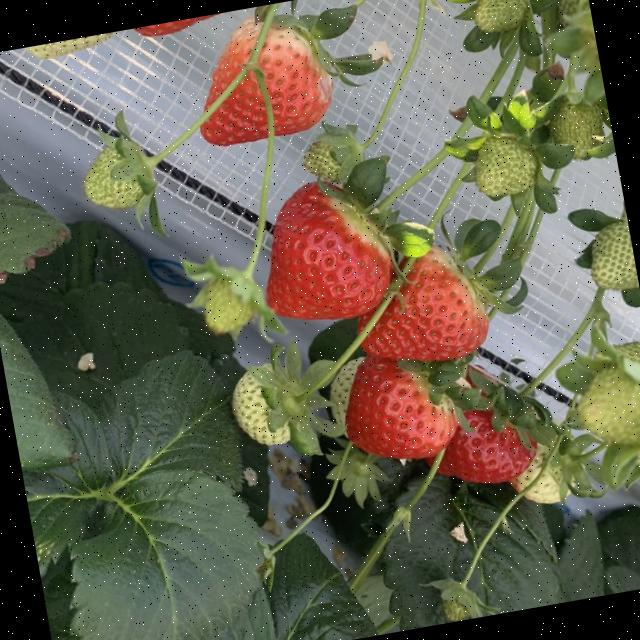Ripe Strawberry: (230, 172, 399, 332), (180, 14, 340, 160), (353, 257, 493, 377), (326, 351, 458, 475), (440, 404, 536, 491)
